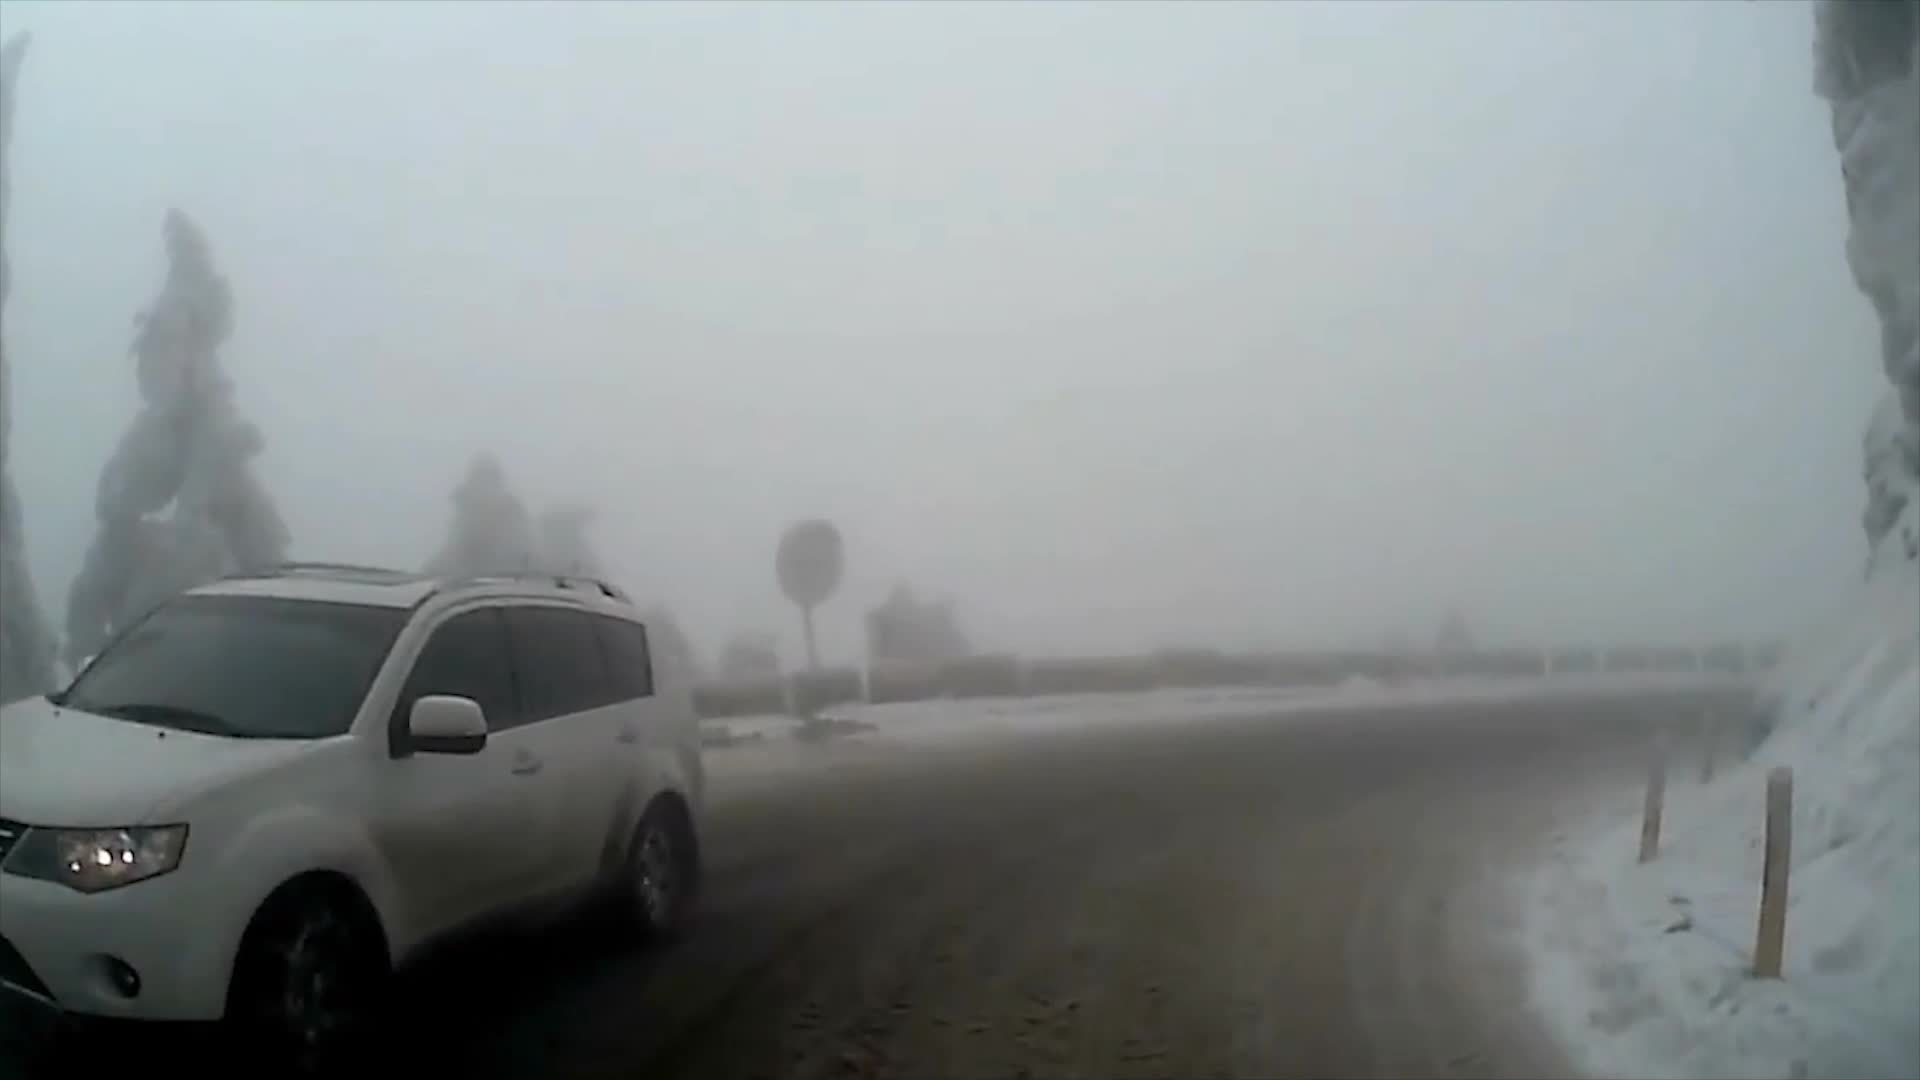vehicle: (0, 556, 709, 1080)
